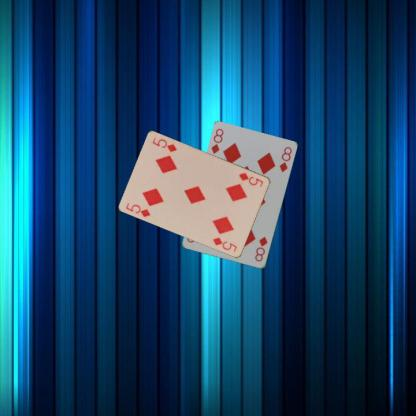5d: (236, 170, 265, 188), (124, 200, 152, 218)
8d: (252, 234, 269, 263), (208, 126, 224, 155)
